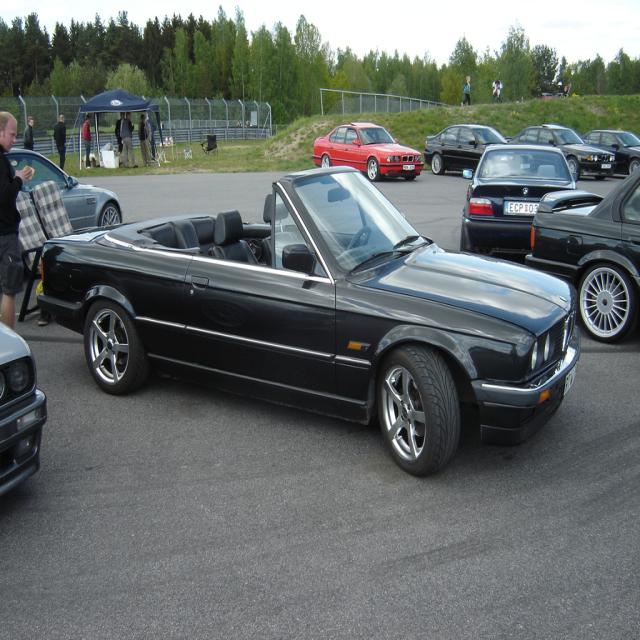car: (36, 168, 575, 470)
